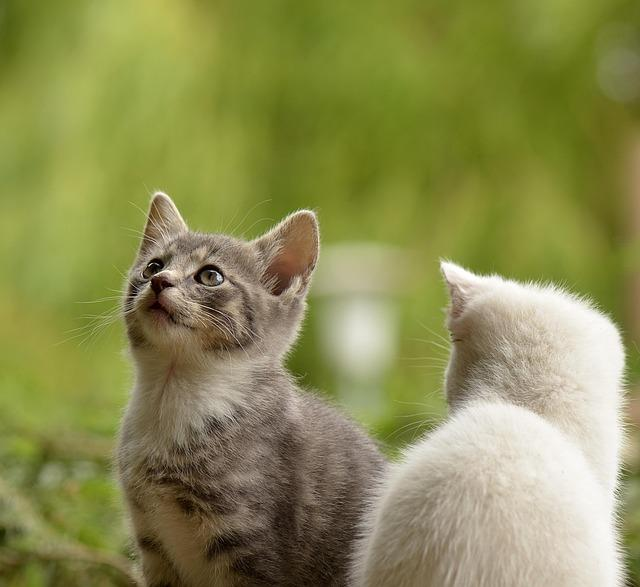Non_Gorille: (3, 0, 640, 587)
